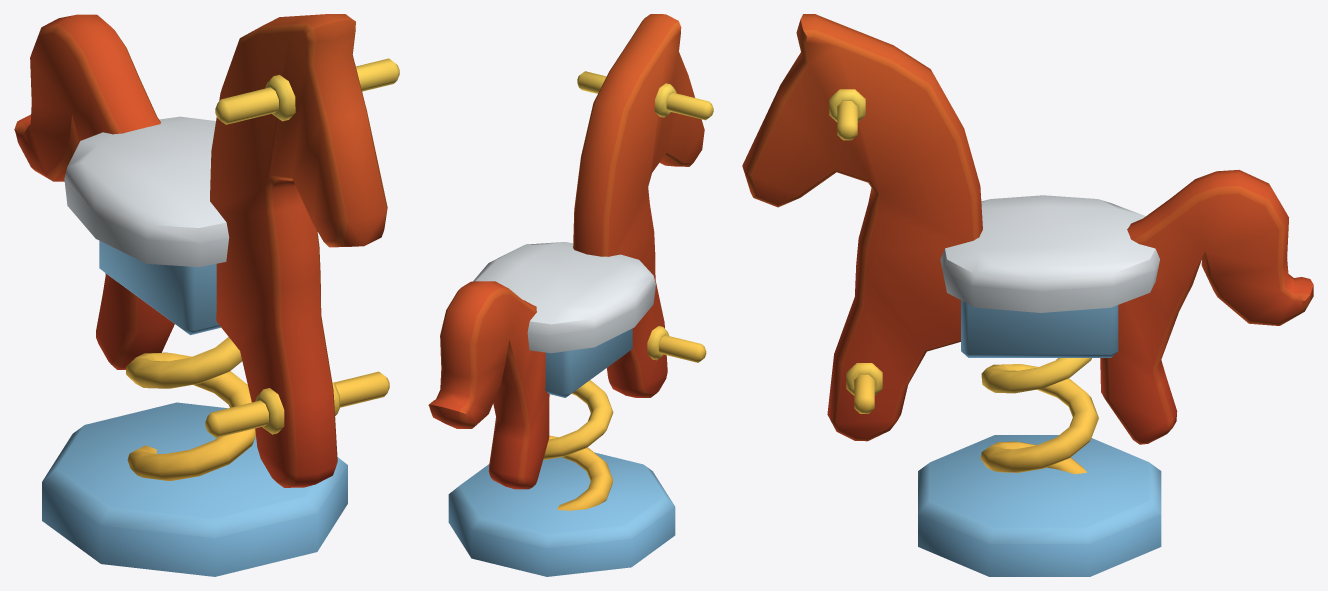
File: spring_horse_B.glb
The picture shows the model from 3 angles, left to right: view 1: azimuth 30°, elevation 25°; view 2: azimuth 150°, elevation 25°; view 3: azimuth 270°, elevation 25°; orthographic projection. The views are drawn at different scales.
Visible parts, largest first — view 1: spring_horse_B_seat, spring_horse_B; view 2: spring_horse_B_seat, spring_horse_B; view 3: spring_horse_B_seat, spring_horse_B.
Part boxes in pixels (box(x1,y1,x2,y2)): spring_horse_B_seat: box(14, 14, 399, 487); spring_horse_B: box(42, 402, 347, 576); spring_horse_B_seat: box(428, 14, 713, 510); spring_horse_B: box(448, 452, 675, 576); spring_horse_B_seat: box(742, 14, 1313, 474); spring_horse_B: box(918, 435, 1161, 576).
Bounding box in the file's own units: 1 × 2.3 × 2.35.
1 material, 1 textured.
